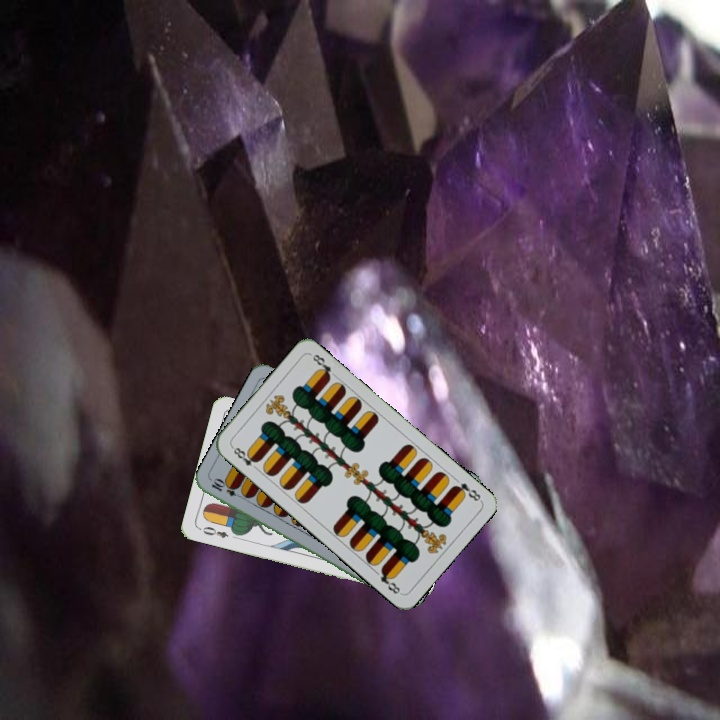E10: (207, 476, 247, 501)
E8: (228, 442, 261, 473), (448, 478, 484, 504)
EO: (198, 522, 231, 541)
